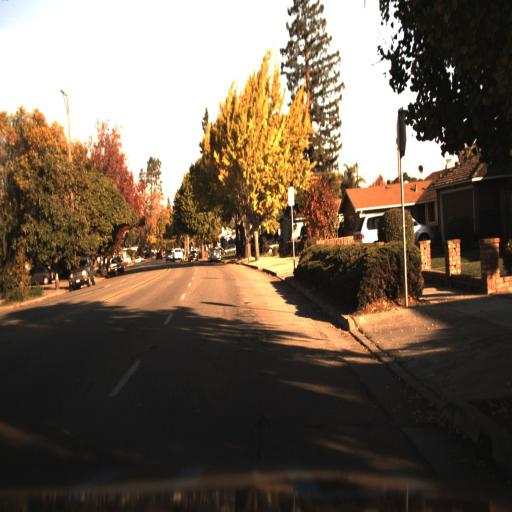car: (350, 208, 432, 244), (66, 257, 95, 293), (67, 257, 92, 290), (25, 265, 56, 285), (107, 252, 124, 280), (206, 247, 224, 268), (171, 246, 184, 266), (208, 245, 223, 261)
